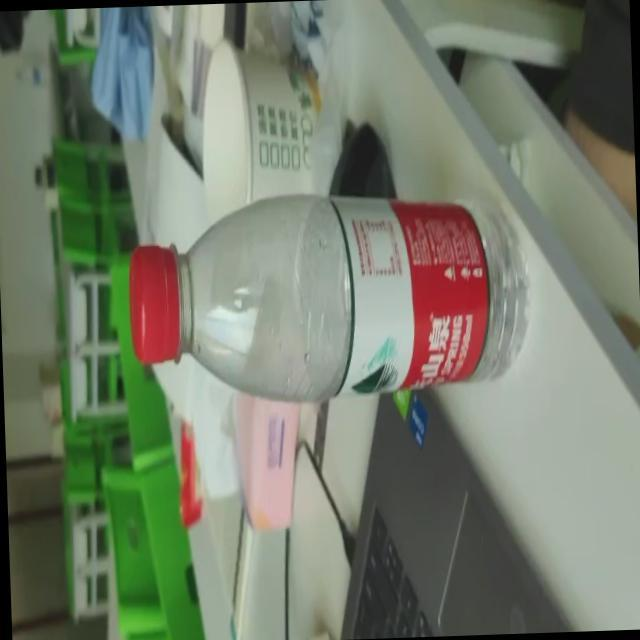good: (118, 187, 532, 410)
